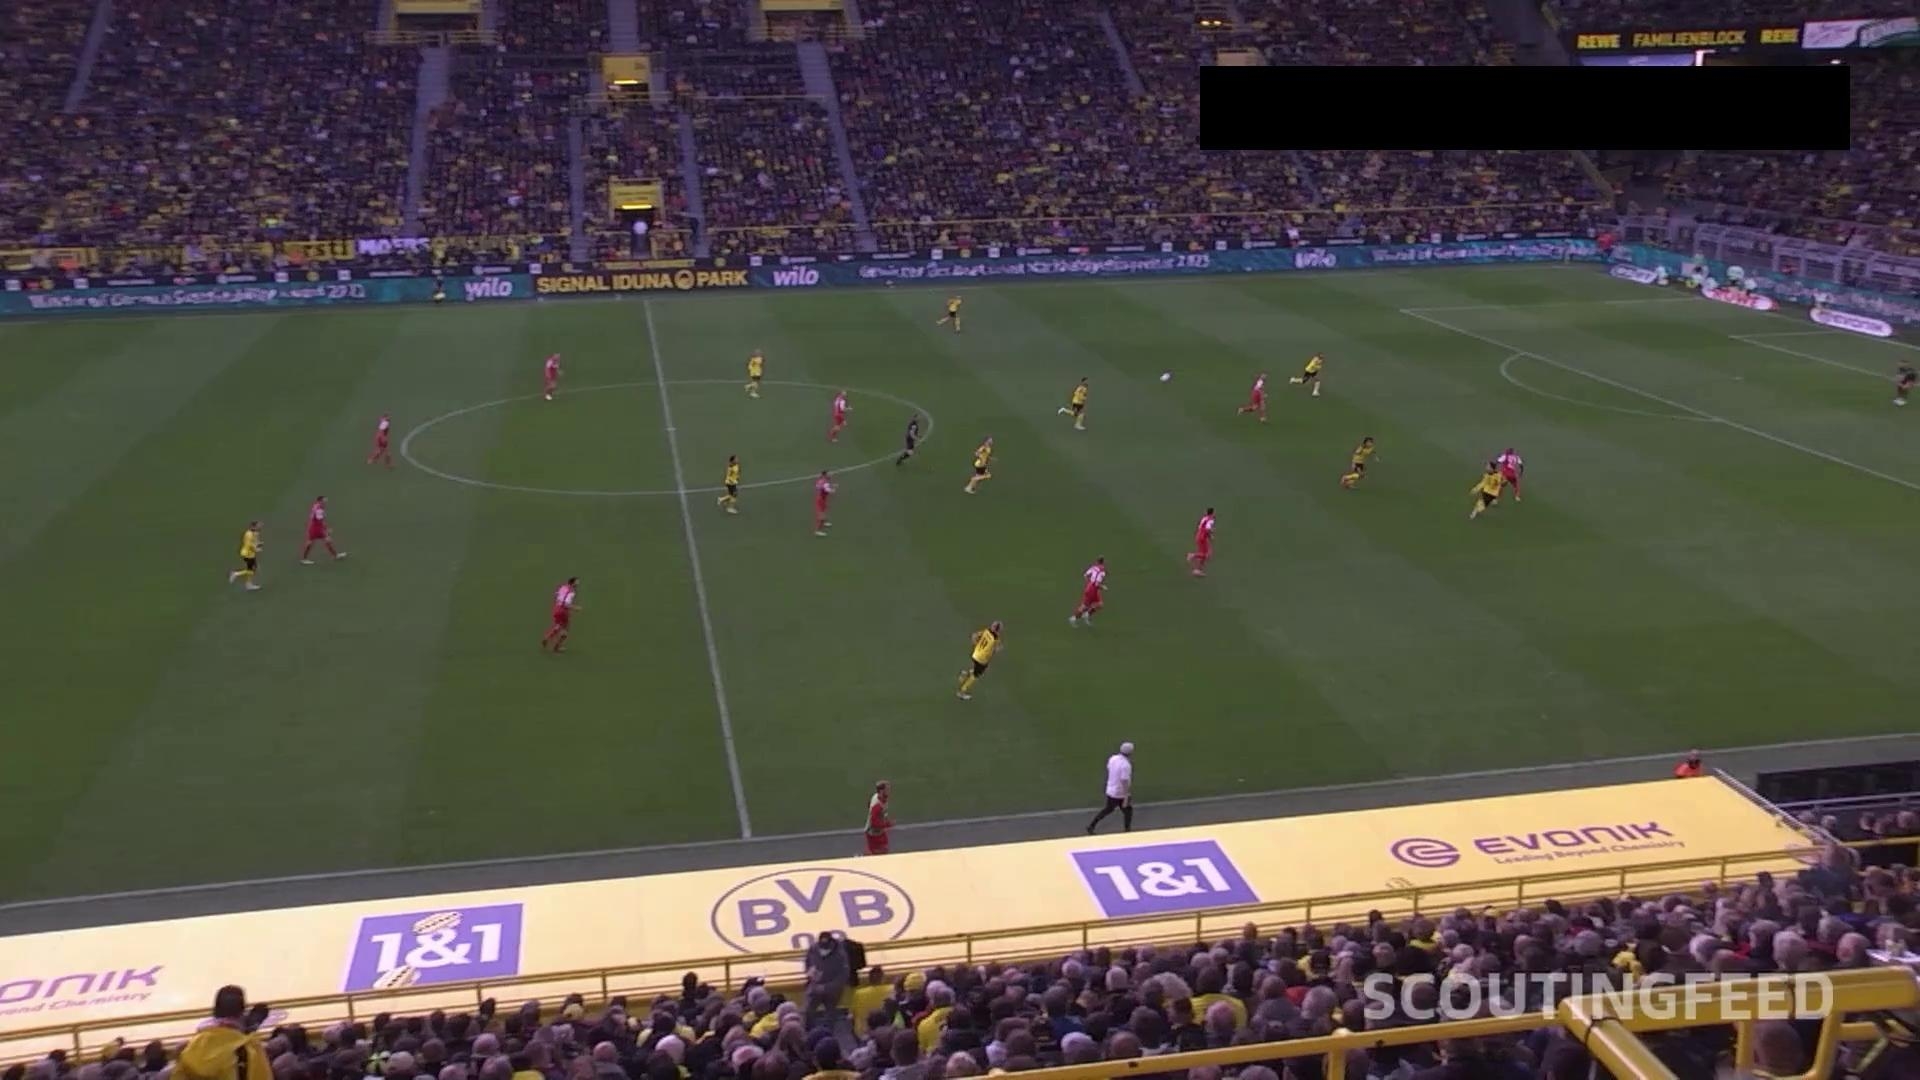Location-of-ball: (1159, 365, 1183, 386)
